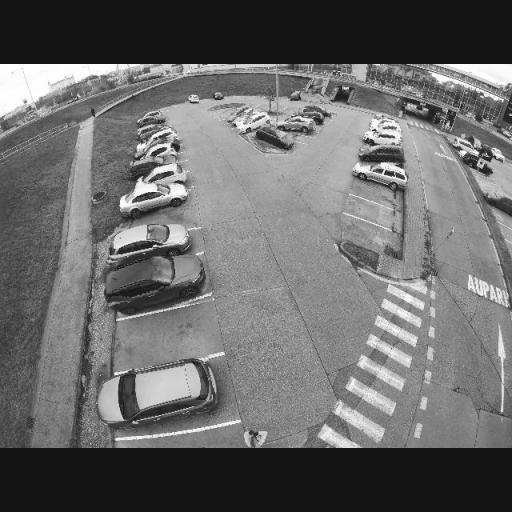busy: (98, 354, 228, 426), (94, 251, 212, 311), (109, 224, 195, 261), (119, 181, 191, 219), (249, 124, 297, 154), (354, 162, 408, 188), (358, 144, 406, 170), (136, 167, 182, 187), (274, 117, 316, 137), (236, 112, 271, 134), (138, 144, 176, 163), (140, 128, 176, 146), (223, 105, 254, 122), (300, 105, 330, 122), (370, 131, 402, 146), (305, 103, 333, 118), (375, 120, 401, 134), (468, 136, 486, 150), (490, 149, 505, 163), (185, 94, 201, 106), (288, 92, 306, 102), (212, 91, 226, 101)
free: (141, 318, 211, 362), (144, 210, 184, 227), (348, 224, 377, 246), (479, 174, 500, 194), (354, 201, 374, 218), (358, 185, 381, 199)
